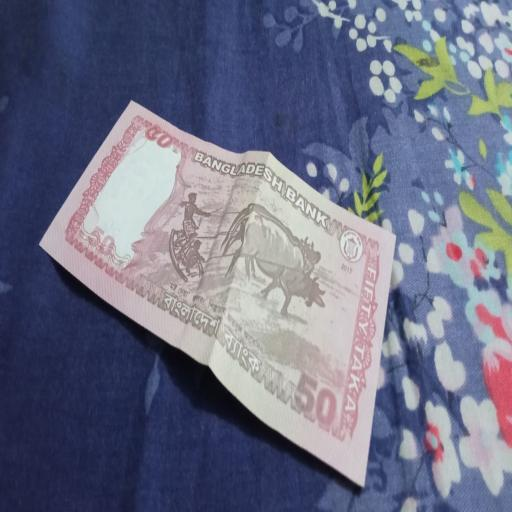50taka: (38, 100, 396, 491)
